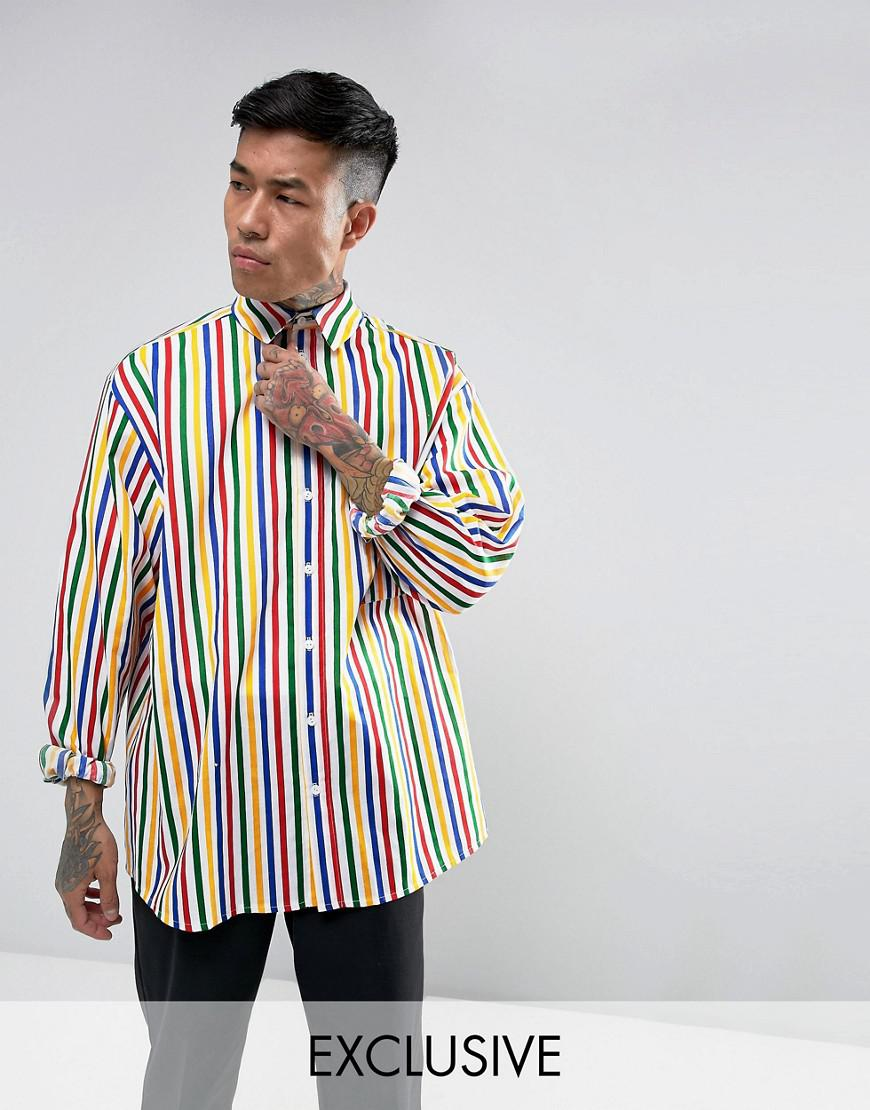teeshirt: (30, 298, 537, 937)
